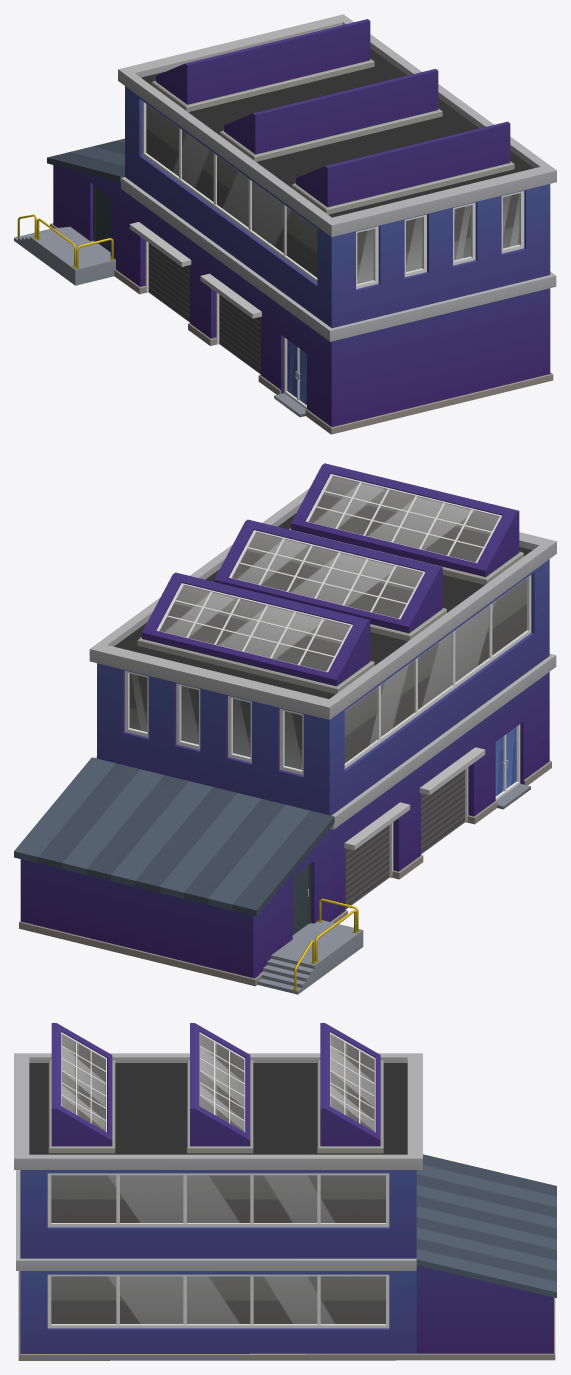
The model's file is Building_Factory_1_C.fbx.
3 views of the same model, one above another, from view 1: azimuth 30°, elevation 25°; view 2: azimuth 150°, elevation 25°; view 3: azimuth 270°, elevation 25° (orthographic). The views are drawn at different scales.
Parts seen in each view (by area): view 1: Building_Factory_1_C; view 2: Building_Factory_1_C; view 3: Building_Factory_1_C.
Boxes of the visible parts, box(x1,y1,x2,y2) form: Building_Factory_1_C: box(14, 14, 556, 434); Building_Factory_1_C: box(14, 463, 556, 994); Building_Factory_1_C: box(14, 1023, 556, 1360).
Size of the model in its own units: 1025 by 931 by 1907.
